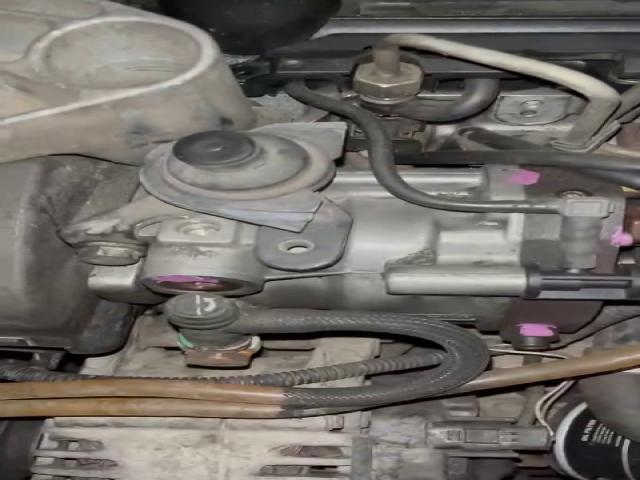alternator: (31, 412, 360, 480)
high_pressure_pump: (77, 165, 638, 349)
